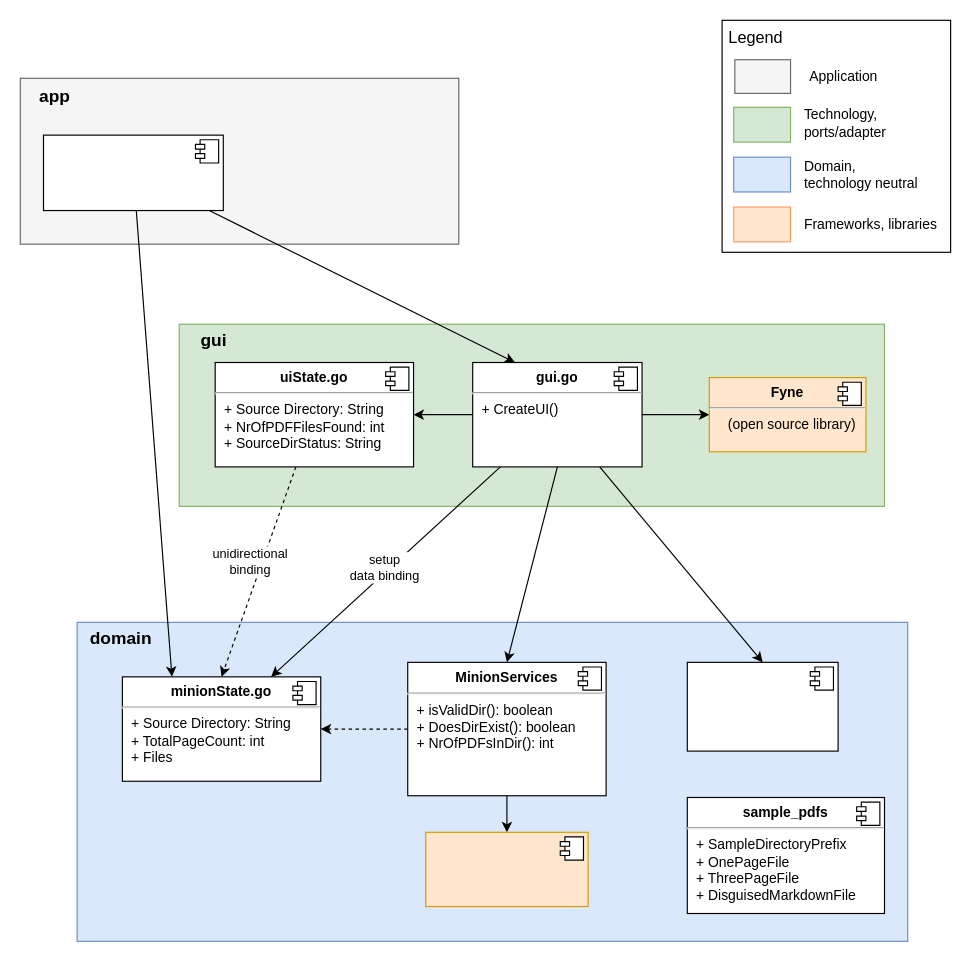
The diagram is 971 pixels wide and 962 high, and some of its shapes have lost their labels. The shapes that lost their labels are listed below. From the top down, each one's centre as x and y in pixels, then its label:
At (x=132, y=172): "PDFMinion App + main()".
At (x=762, y=706): "version + AppName: String + VersionStr: String".
At (x=506, y=869): "PDFcpu (open source library)".
